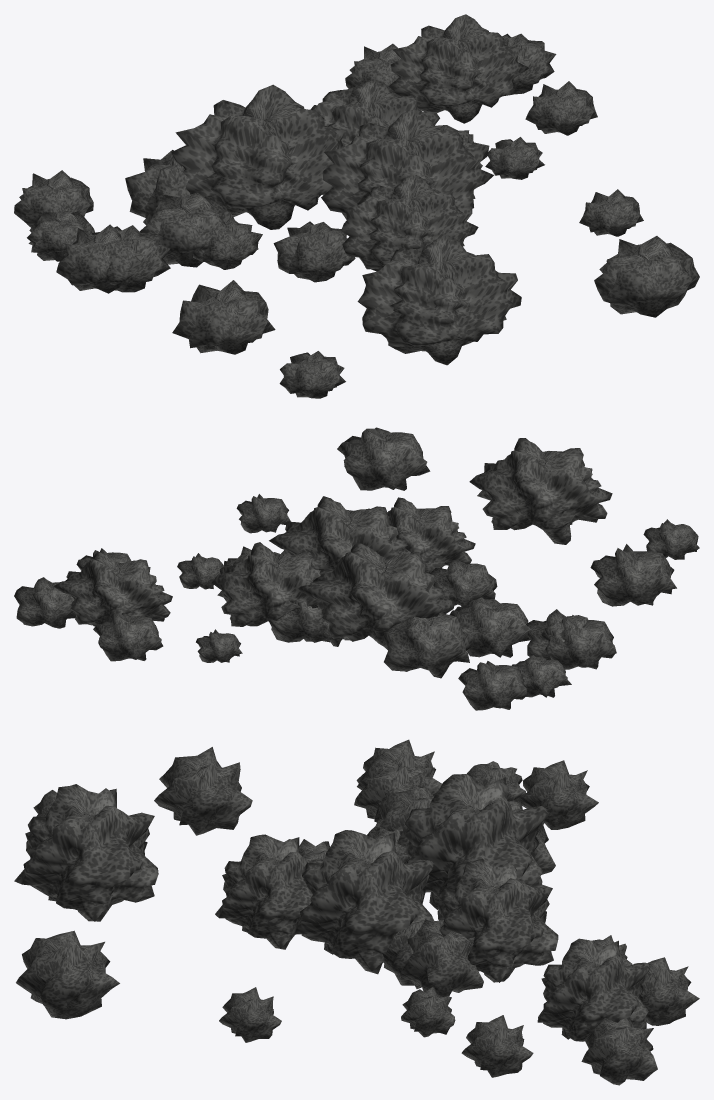
The model's file is PROJECT_Z_VR26_07_Pumice_Field_Scatter_4m.glb.
3 views of the same model, one above another, from view 1: azimuth 30°, elevation 25°; view 2: azimuth 150°, elevation 25°; view 3: azimuth 270°, elevation 25° (orthographic). The views are drawn at different scales.
Parts seen in each view (by area): view 1: 07_Pumice_Field_Scatter_4m__RENDER_Pumice_Stone_01, 07_Pumice_Field_Scatter_4m__RENDER_Pumice_Stone_05, 07_Pumice_Field_Scatter_4m__RENDER_Pumice_Stone_03, 07_Pumice_Field_Scatter_4m__RENDER_Pumice_Stone_02, 07_Pumice_Field_Scatter_4m__RENDER_Pumice_Stone_04, 07_Pumice_Field_Scatter_4m__RENDER_Pumice_Stone_24, 07_Pumice_Field_Scatter_4m__RENDER_Pumice_Stone_18, 07_Pumice_Field_Scatter_4m__RENDER_Pumice_Stone_26, 07_Pumice_Field_Scatter_4m__RENDER_Pumice_Stone_06, 07_Pumice_Field_Scatter_4m__RENDER_Pumice_Stone_11, 07_Pumice_Field_Scatter_4m__RENDER_Pumice_Stone_13, 07_Pumice_Field_Scatter_4m__RENDER_Pumice_Stone_21 (+10 smaller); view 2: 07_Pumice_Field_Scatter_4m__RENDER_Pumice_Stone_01, 07_Pumice_Field_Scatter_4m__RENDER_Pumice_Stone_05, 07_Pumice_Field_Scatter_4m__RENDER_Pumice_Stone_06, 07_Pumice_Field_Scatter_4m__RENDER_Pumice_Stone_02, 07_Pumice_Field_Scatter_4m__RENDER_Pumice_Stone_03, 07_Pumice_Field_Scatter_4m__RENDER_Pumice_Stone_24, 07_Pumice_Field_Scatter_4m__RENDER_Pumice_Stone_09, 07_Pumice_Field_Scatter_4m__RENDER_Pumice_Stone_18, 07_Pumice_Field_Scatter_4m__RENDER_Pumice_Stone_04, 07_Pumice_Field_Scatter_4m__RENDER_Pumice_Stone_26, 07_Pumice_Field_Scatter_4m__RENDER_Pumice_Stone_21, 07_Pumice_Field_Scatter_4m__RENDER_Pumice_Stone_22 (+10 smaller); view 3: 07_Pumice_Field_Scatter_4m__RENDER_Pumice_Stone_05, 07_Pumice_Field_Scatter_4m__RENDER_Pumice_Stone_03, 07_Pumice_Field_Scatter_4m__RENDER_Pumice_Stone_01, 07_Pumice_Field_Scatter_4m__RENDER_Pumice_Stone_06, 07_Pumice_Field_Scatter_4m__RENDER_Pumice_Stone_02, 07_Pumice_Field_Scatter_4m__RENDER_Pumice_Stone_04, 07_Pumice_Field_Scatter_4m__RENDER_Pumice_Stone_24, 07_Pumice_Field_Scatter_4m__RENDER_Pumice_Stone_18, 07_Pumice_Field_Scatter_4m__RENDER_Pumice_Stone_07, 07_Pumice_Field_Scatter_4m__RENDER_Pumice_Stone_12, 07_Pumice_Field_Scatter_4m__RENDER_Pumice_Stone_22, 07_Pumice_Field_Scatter_4m__RENDER_Pumice_Stone_20 (+9 smaller).
Boxes of the visible parts, x1,y1,x2,y2 form: 07_Pumice_Field_Scatter_4m__RENDER_Pumice_Stone_01: (171,84,345,229); 07_Pumice_Field_Scatter_4m__RENDER_Pumice_Stone_05: (357,235,521,365); 07_Pumice_Field_Scatter_4m__RENDER_Pumice_Stone_03: (321,109,493,219); 07_Pumice_Field_Scatter_4m__RENDER_Pumice_Stone_02: (388,14,529,123); 07_Pumice_Field_Scatter_4m__RENDER_Pumice_Stone_04: (341,175,478,271); 07_Pumice_Field_Scatter_4m__RENDER_Pumice_Stone_24: (594,236,699,317); 07_Pumice_Field_Scatter_4m__RENDER_Pumice_Stone_18: (172,280,275,354); 07_Pumice_Field_Scatter_4m__RENDER_Pumice_Stone_26: (139,192,234,267); 07_Pumice_Field_Scatter_4m__RENDER_Pumice_Stone_06: (313,79,439,147); 07_Pumice_Field_Scatter_4m__RENDER_Pumice_Stone_11: (273,221,355,282); 07_Pumice_Field_Scatter_4m__RENDER_Pumice_Stone_13: (89,225,170,292); 07_Pumice_Field_Scatter_4m__RENDER_Pumice_Stone_21: (56,224,140,293); 07_Pumice_Field_Scatter_4m__RENDER_Pumice_Stone_01: (297,542,455,650); 07_Pumice_Field_Scatter_4m__RENDER_Pumice_Stone_05: (469,438,612,544); 07_Pumice_Field_Scatter_4m__RENDER_Pumice_Stone_06: (211,542,322,626); 07_Pumice_Field_Scatter_4m__RENDER_Pumice_Stone_02: (53,551,172,626); 07_Pumice_Field_Scatter_4m__RENDER_Pumice_Stone_03: (269,496,410,569); 07_Pumice_Field_Scatter_4m__RENDER_Pumice_Stone_24: (337,427,430,490); 07_Pumice_Field_Scatter_4m__RENDER_Pumice_Stone_09: (382,614,473,678); 07_Pumice_Field_Scatter_4m__RENDER_Pumice_Stone_18: (590,544,676,606); 07_Pumice_Field_Scatter_4m__RENDER_Pumice_Stone_04: (387,497,475,573); 07_Pumice_Field_Scatter_4m__RENDER_Pumice_Stone_26: (449,597,531,657); 07_Pumice_Field_Scatter_4m__RENDER_Pumice_Stone_21: (542,615,616,669); 07_Pumice_Field_Scatter_4m__RENDER_Pumice_Stone_22: (458,661,527,710); 07_Pumice_Field_Scatter_4m__RENDER_Pumice_Stone_05: (14,784,158,921); 07_Pumice_Field_Scatter_4m__RENDER_Pumice_Stone_03: (292,830,434,974); 07_Pumice_Field_Scatter_4m__RENDER_Pumice_Stone_01: (402,774,548,909); 07_Pumice_Field_Scatter_4m__RENDER_Pumice_Stone_06: (437,858,558,982); 07_Pumice_Field_Scatter_4m__RENDER_Pumice_Stone_02: (537,938,650,1041); 07_Pumice_Field_Scatter_4m__RENDER_Pumice_Stone_04: (215,834,324,949); 07_Pumice_Field_Scatter_4m__RENDER_Pumice_Stone_24: (16,930,119,1019); 07_Pumice_Field_Scatter_4m__RENDER_Pumice_Stone_18: (154,747,252,835); 07_Pumice_Field_Scatter_4m__RENDER_Pumice_Stone_07: (400,919,483,997); 07_Pumice_Field_Scatter_4m__RENDER_Pumice_Stone_12: (581,1017,657,1085); 07_Pumice_Field_Scatter_4m__RENDER_Pumice_Stone_22: (520,760,598,829); 07_Pumice_Field_Scatter_4m__RENDER_Pumice_Stone_20: (461,1015,533,1077).
Bounding box in the file's own units: 4.35 × 0.8113 × 4.08.
Materials: 1 (1 with a texture image).
